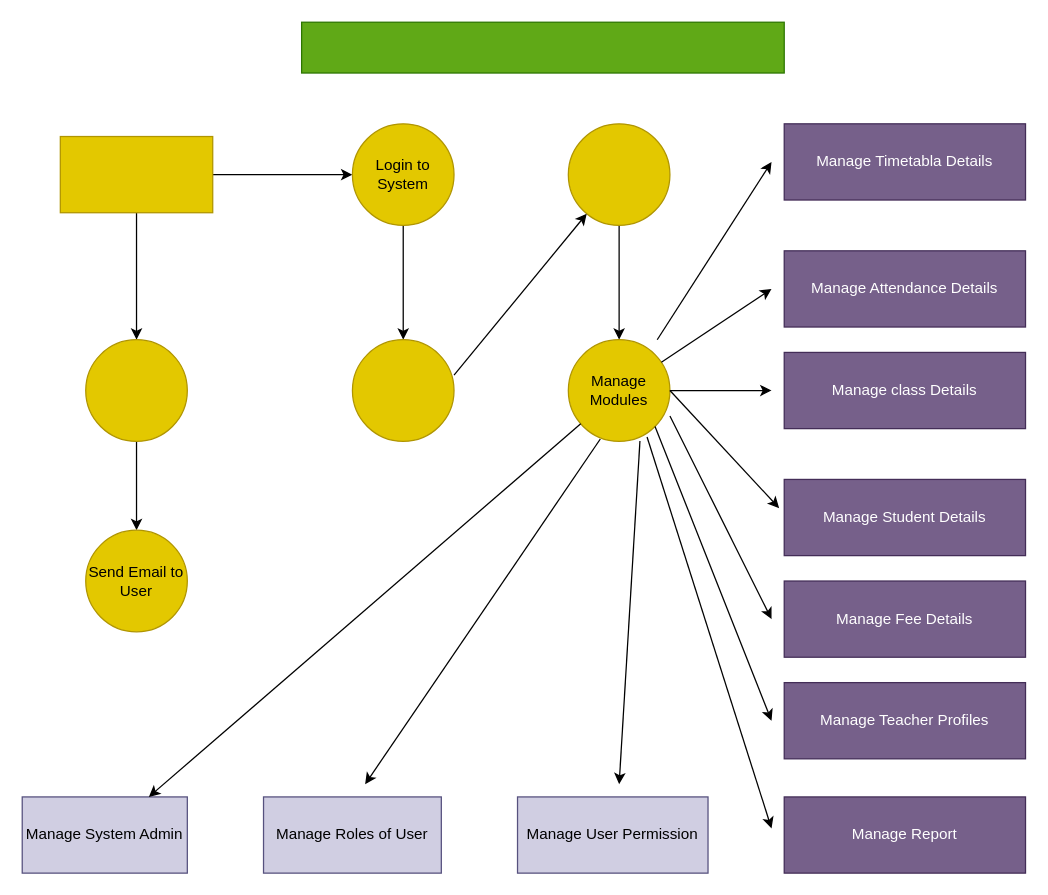
Some shapes in this 1048 by 895 pixel diagram are drawn without their labels. Each missing label, with the centre of its shape:
"Admin" belongs at pixel 136 174.
"Check Crendentials" belongs at pixel 402 389.
"Check Roles of Access" belongs at pixel 618 174.
"Forget Password" belongs at pixel 135 389.
"Student Information System" belongs at pixel 542 47.
